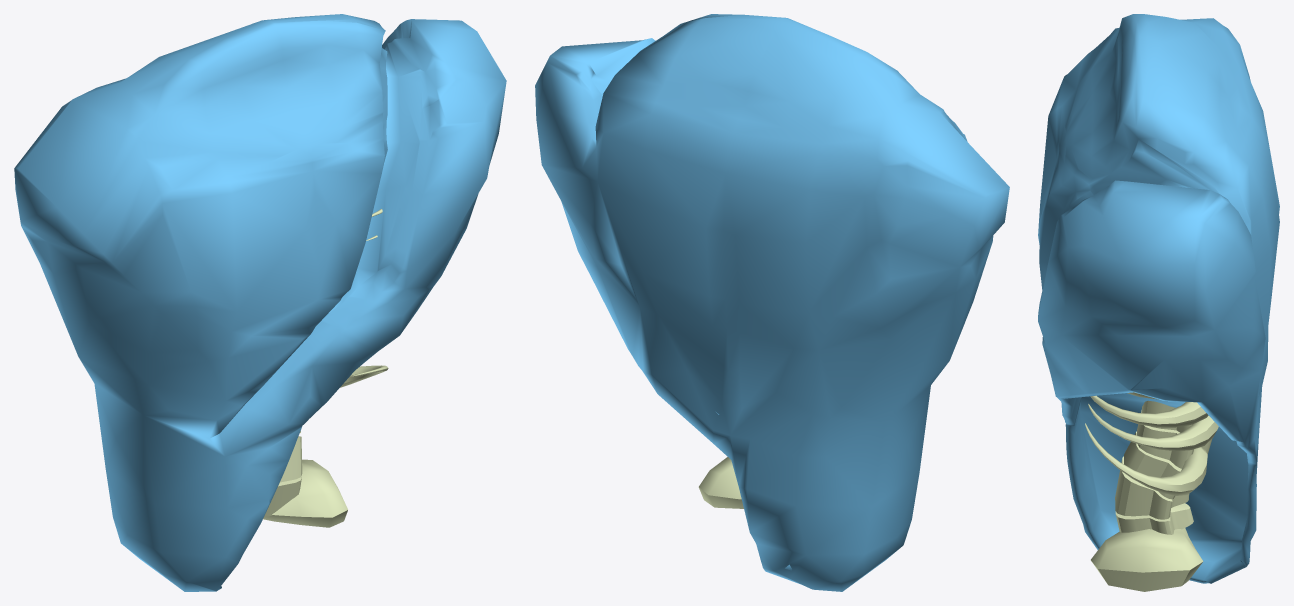
The model's file is Limb_BruteTorso.fbx.
The picture shows the model from 3 angles, left to right: view 1: azimuth 30°, elevation 25°; view 2: azimuth 150°, elevation 25°; view 3: azimuth 270°, elevation 25°; orthographic projection. The views are drawn at different scales.
Parts seen in each view (by area): view 1: body, Torso; view 2: body, Torso; view 3: body, Torso, Torso.001.
Part boxes in pixels (left/top/right/bottom): body: left=14, top=14, right=506, bottom=591; Torso: left=263, top=431, right=347, bottom=527; body: left=535, top=14, right=1009, bottom=591; Torso: left=698, top=457, right=743, bottom=508; body: left=1038, top=14, right=1279, bottom=583; Torso: left=1091, top=400, right=1212, bottom=591; Torso.001: left=1085, top=392, right=1218, bottom=495.
Size of the model in its own units: 1018 by 1143 by 442.
